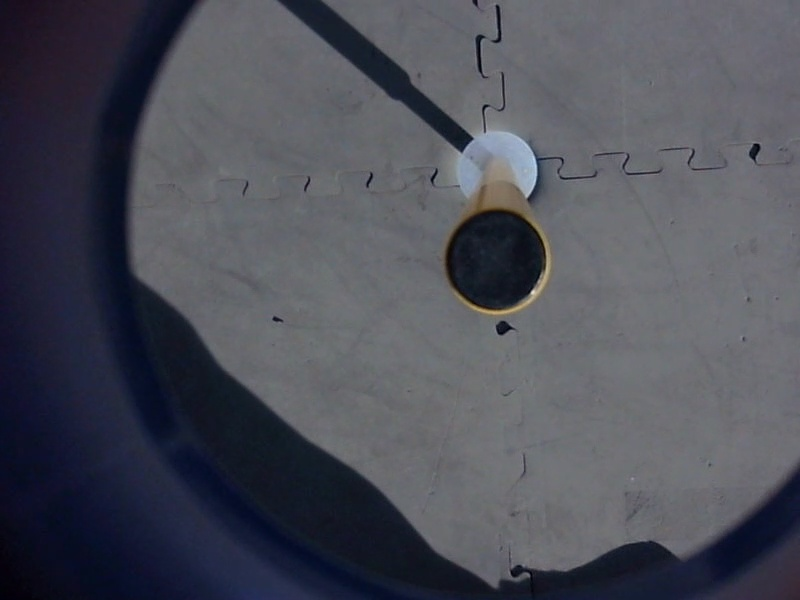tip: (437, 202, 555, 319)
